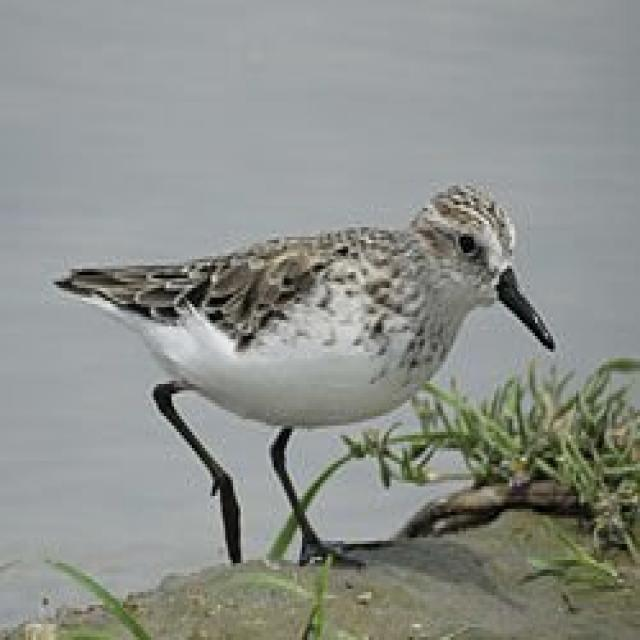sandpiper: (54, 186, 553, 560)
